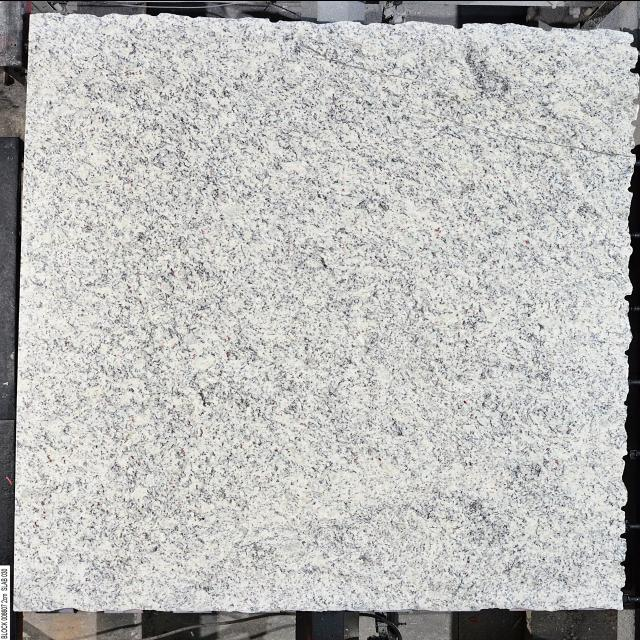chapa: (16, 14, 638, 610)
veio: (628, 64, 640, 76), (538, 24, 554, 32), (450, 21, 466, 28)
